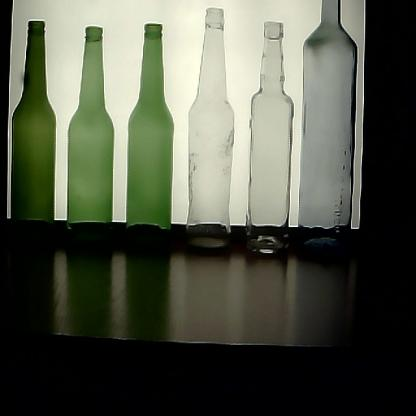Can: (298, 1, 360, 262), (182, 8, 238, 262), (124, 16, 176, 264), (244, 19, 296, 263), (65, 21, 117, 258), (10, 13, 56, 250)
